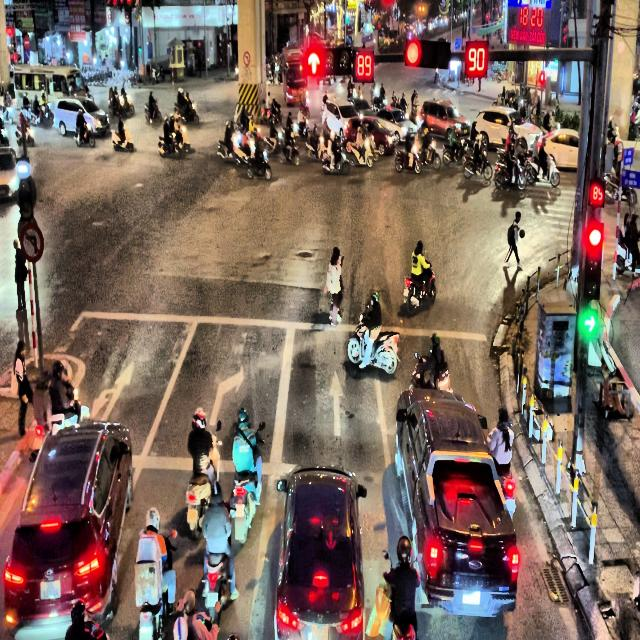lisence_plate: (38, 577, 62, 601), (310, 622, 330, 639), (462, 588, 481, 605)
